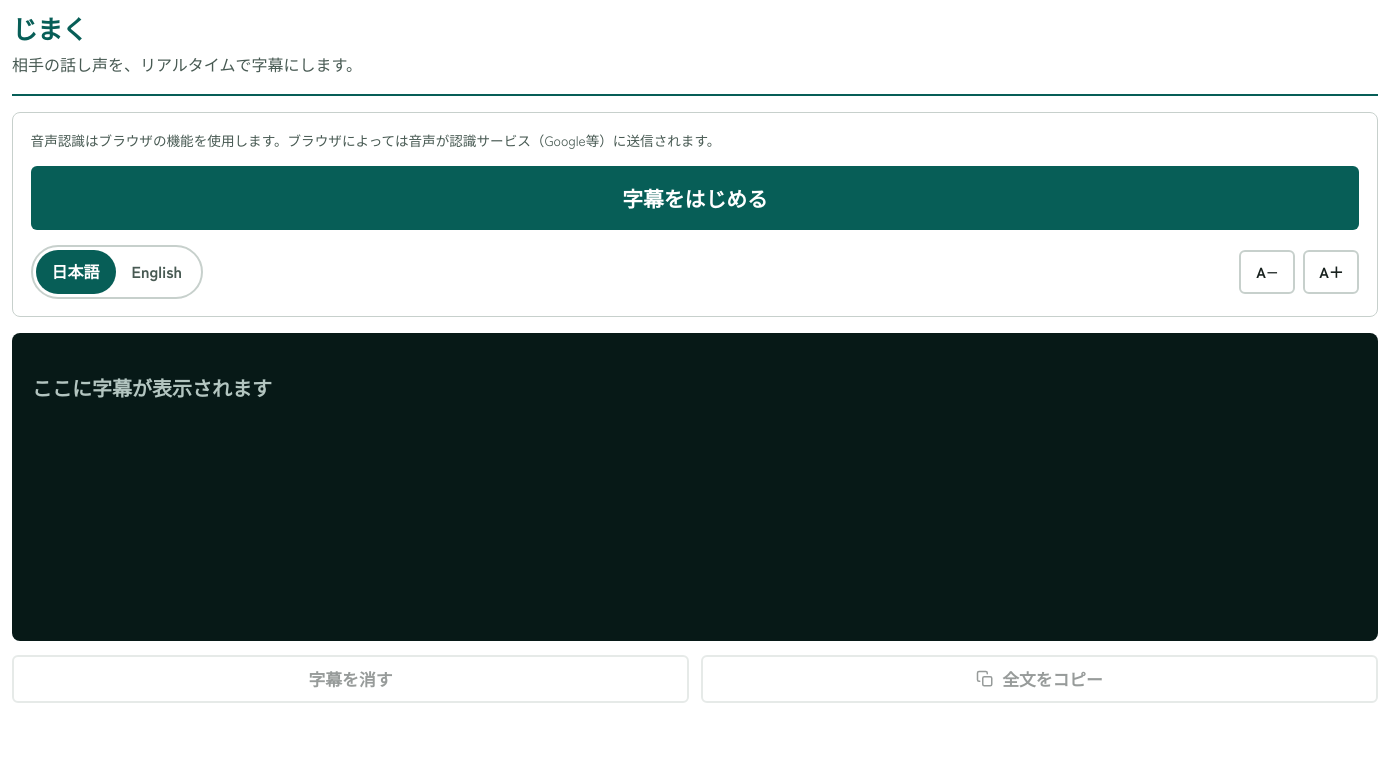
Test case: Captions › stops and offers writing for audio-capture errors
The image size is (1390, 759).
Click the button "字幕をはじめる". click: x=695, y=198
box: [31,166,1359,230]
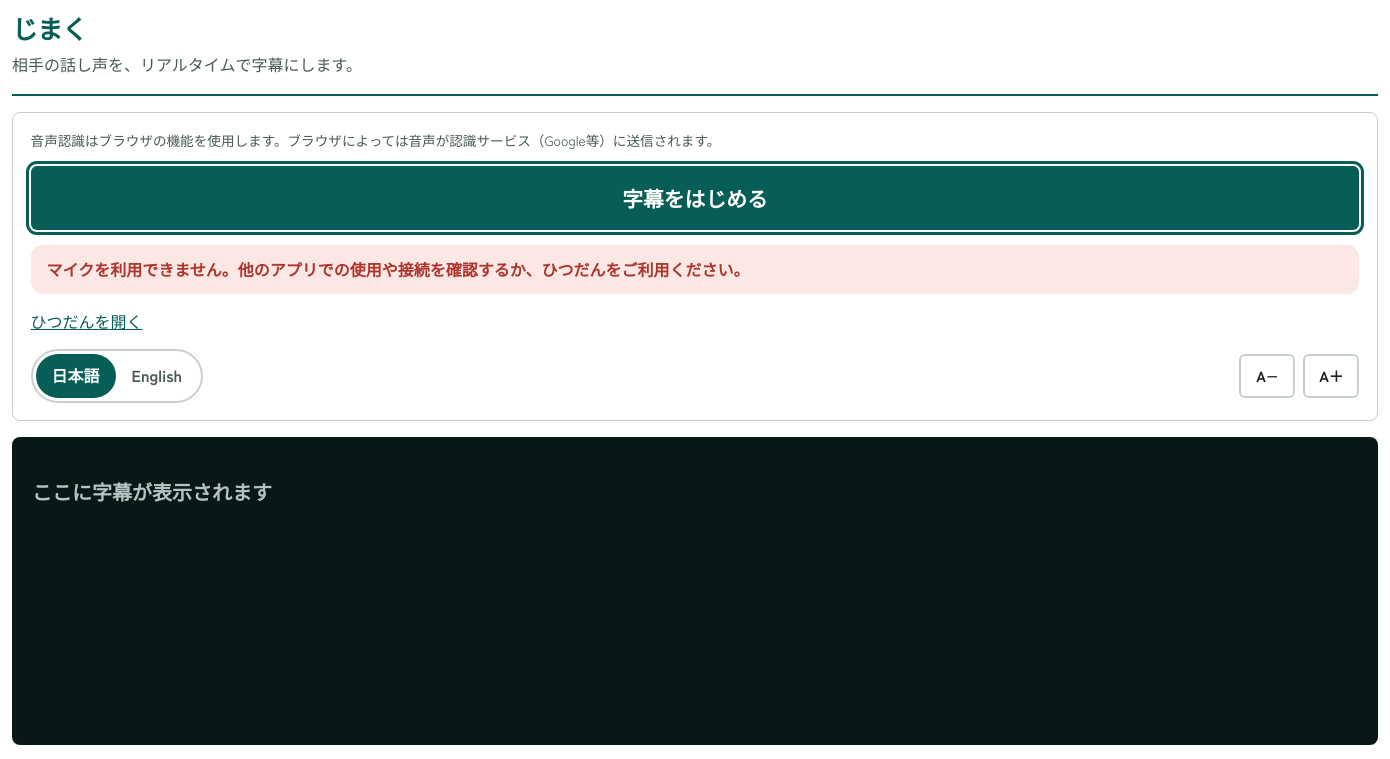
Now the message "マイクを利用できません。他のアプリでの使用や接続を確認するか、ひつだんをご利用ください。" is shown, box [31,245,1359,294]
Now the link "ひつだんを開く" is shown, box [31,309,143,333]
